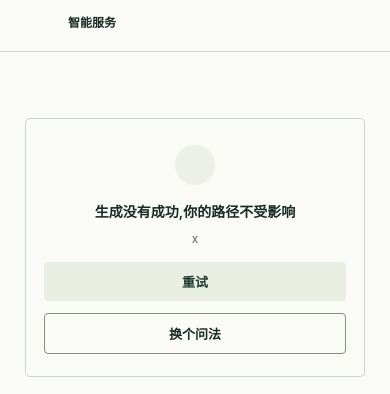
Test: RunView(执行态页,04 §7.2 RunProgress) › 重试遇 429:页内错误态显示 envelope 文案,不再停留 spinner
The image size is (390, 394).
Click the button with class "err-retry" at (195, 281), box [44, 262, 346, 301]
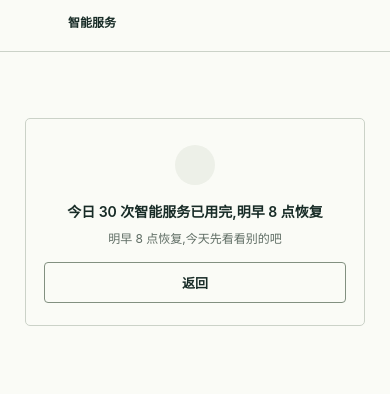
Expected: the text "今日 30 次智能服务已用完,明早 8 点恢复" is shown, [67, 203, 323, 220]
